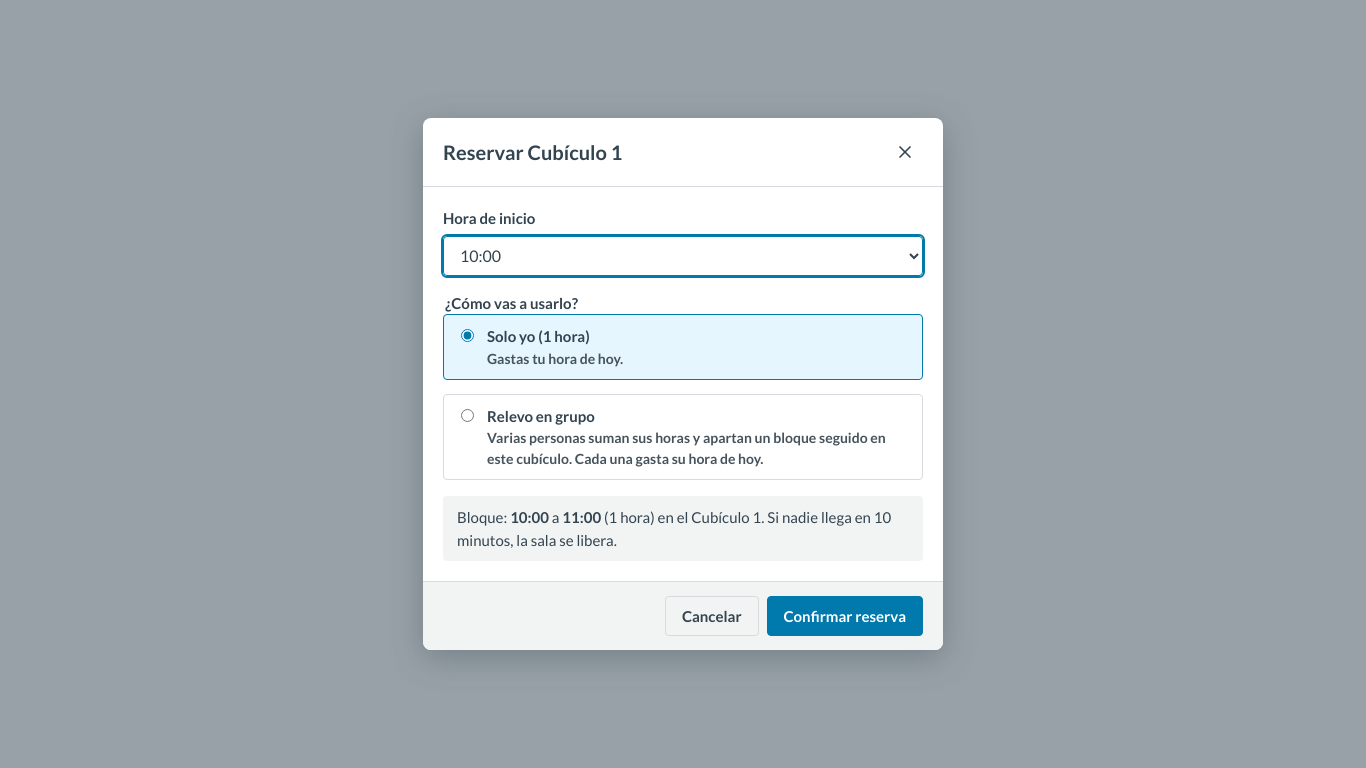
Test: ModalReserva › muestra el error que devuelve el servidor y deja volver a intentar
Click the button "Confirmar reserva" at (845, 616), box 766,596 -> 923,636
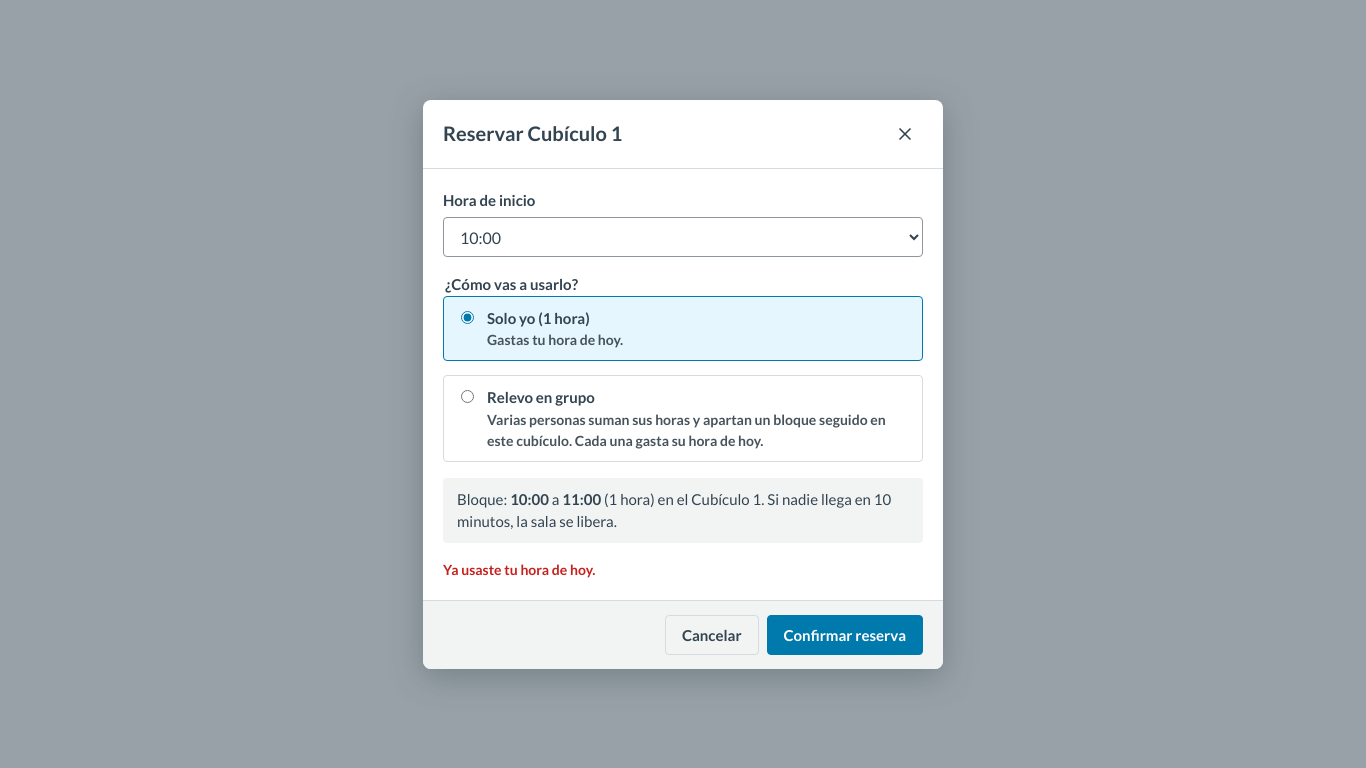
Expected: the button "Confirmar reserva" is enabled, 766,614 -> 923,654
Now the message reads "Ya usaste tu hora de hoy.", box 443,560 -> 595,578
